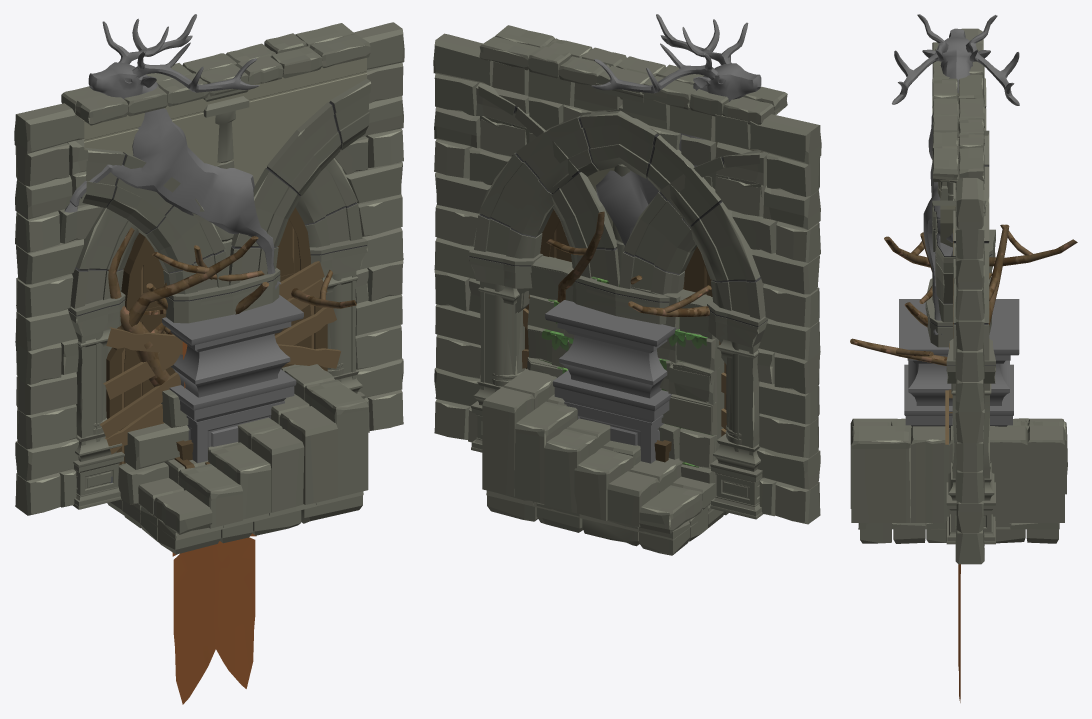
File: ruins.glb
3 renders of one model, left to right at view 1: azimuth 30°, elevation 25°; view 2: azimuth 150°, elevation 25°; view 3: azimuth 270°, elevation 25°, orthographic. The views are drawn at different scales.
Parts seen in each view (by area): view 1: Wall_ArchGothic, Support_Center, Statue_Stag, Stairs, Doors_GothicArch_Covered, Arch_Gothic, Flag_Wall2, Arch_Gothic_RoundColumn, DeadTree_3, Floor_Standard, Wall_Double_Broken, Bricks (+4 smaller); view 2: Wall_ArchGothic, Arch_Gothic, Support_Center, Stairs, Statue_Stag, Arch_Gothic_RoundColumn, Wall_Overgrown, Floor_Standard, Wall, Wall_Broken, Doors_GothicArch_Covered, DeadTree_3 (+2 smaller); view 3: Stairs, Statue_Stag, Wall_ArchGothic, Support_Center, Arch_Gothic, DeadTree_3, Floor_Standard, Arch_Gothic_RoundColumn, Floor_Squares, Flag_Wall2.
Boxes of the visible parts, box(x1,y1,x2,y2) form: Wall_ArchGothic: box(14, 22, 404, 515); Support_Center: box(61, 23, 371, 323); Statue_Stag: box(64, 14, 303, 463); Stairs: box(138, 364, 368, 534); Doors_GothicArch_Covered: box(100, 207, 340, 483); Arch_Gothic: box(68, 158, 367, 488); Flag_Wall2: box(172, 533, 256, 704); Arch_Gothic_RoundColumn: box(68, 224, 365, 509); DeadTree_3: box(108, 227, 356, 387); Floor_Standard: box(107, 495, 362, 554); Wall_Double_Broken: box(124, 389, 189, 469); Bricks: box(118, 462, 168, 504); Wall_ArchGothic: box(433, 33, 821, 524); Arch_Gothic: box(468, 110, 767, 498); Support_Center: box(478, 25, 787, 324); Stairs: box(482, 368, 716, 533); Statue_Stag: box(545, 14, 761, 463); Arch_Gothic_RoundColumn: box(470, 234, 766, 519); Wall_Overgrown: box(527, 266, 714, 467); Floor_Standard: box(487, 493, 728, 555); Wall: box(527, 255, 724, 495); Wall_Broken: box(527, 329, 715, 435); Doors_GothicArch_Covered: box(522, 209, 726, 436); DeadTree_3: box(546, 211, 711, 316); Stairs: box(850, 418, 1067, 522); Statue_Stag: box(892, 14, 1019, 429); Wall_ArchGothic: box(955, 28, 984, 564); Support_Center: box(925, 42, 991, 347); Arch_Gothic: box(946, 130, 995, 526); DeadTree_3: box(850, 224, 1077, 365); Floor_Standard: box(860, 506, 1058, 543); Arch_Gothic_RoundColumn: box(946, 229, 995, 544); Floor_Squares: box(858, 523, 1059, 529); Flag_Wall2: box(958, 564, 960, 702).
Size of the model in its own units: 4 by 6.94 by 2.26.
20 materials, 2 textured.
